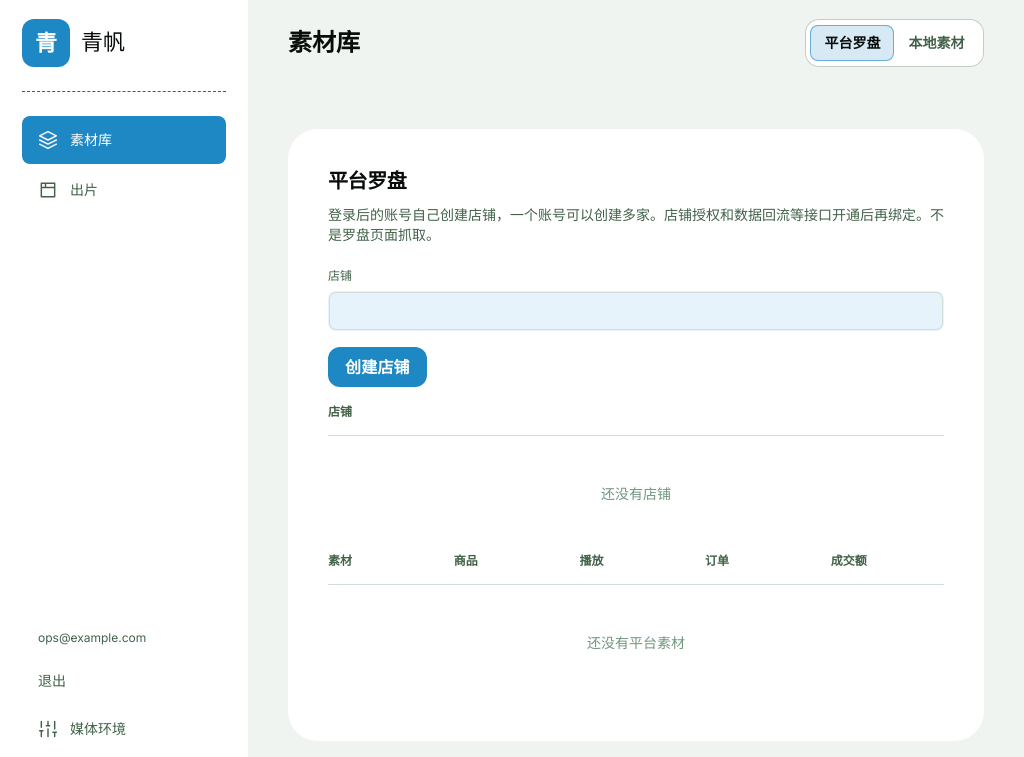
出片页可以手填发布并预览回流
What coordinates should you click on to do the following:
click the button "出片"
I would click on:
 (124, 190)
Its box is [22,168,226,212].
(page scrolled)
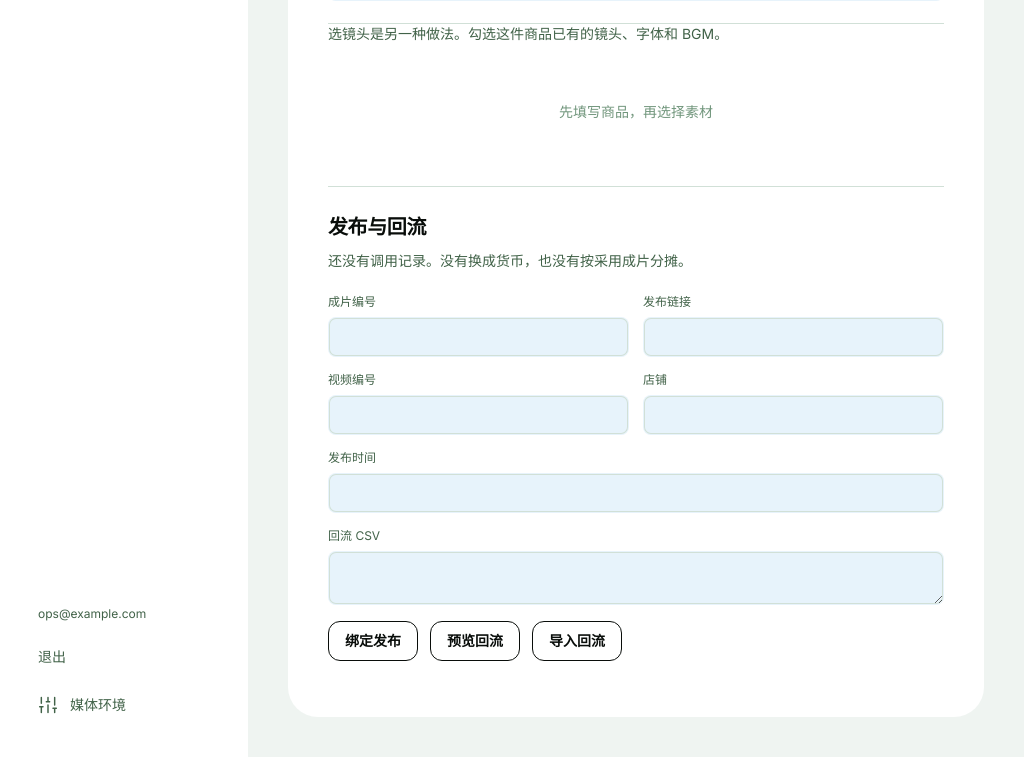
Now the element "发布与回流" is shown, box [328,186,944,661]
Now the text "还没有调用记录。没有换成货币，也没有按采用成片分摊。" is shown, box [328,252,692,269]
What coordinates should you click on to do the following:
click the button "绑定发布"
I would click on:
 (373, 641)
Its box is [328,621,418,661].
(page scrolled)
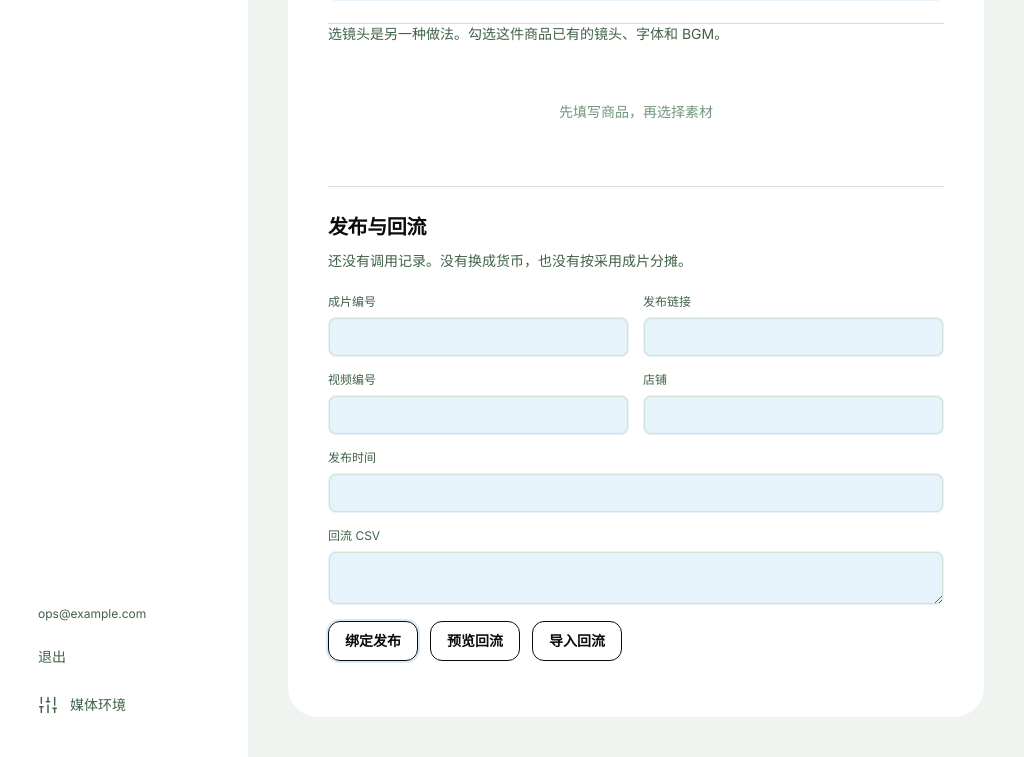
What coordinates should you click on to do the following:
click the button "预览回流"
I would click on:
 (475, 641)
Its box is [430,621,520,661].
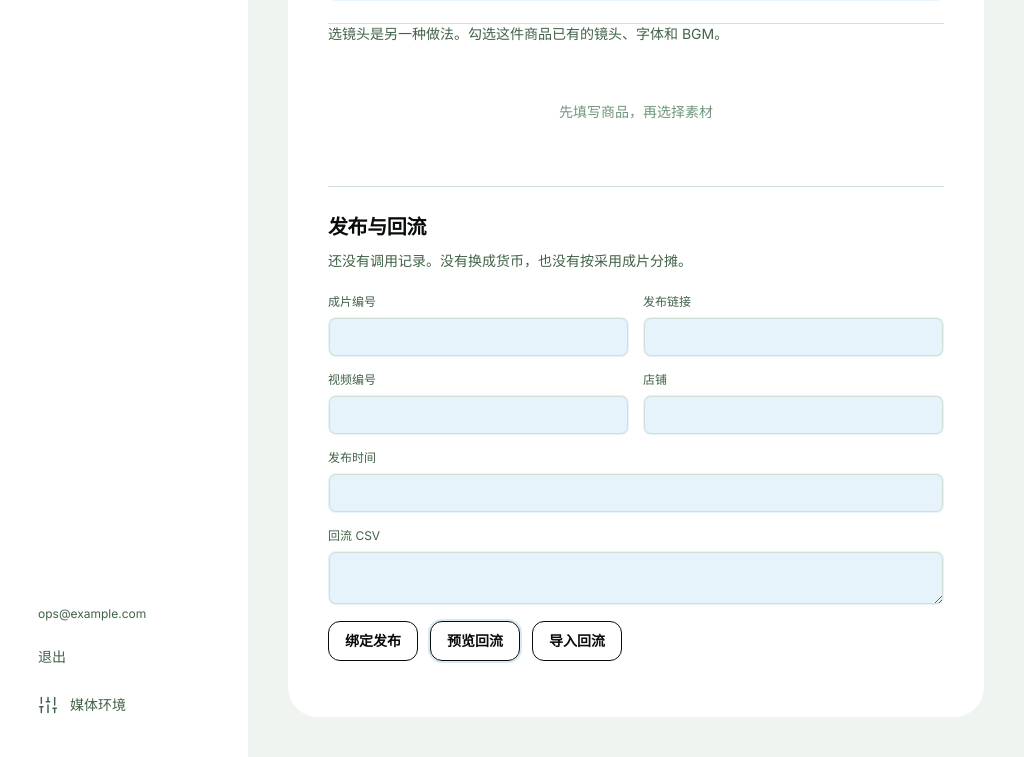
What coordinates should you click on to do the following:
click the button "导入回流"
I would click on:
 (577, 641)
Its box is [532,621,622,661].
(page scrolled)
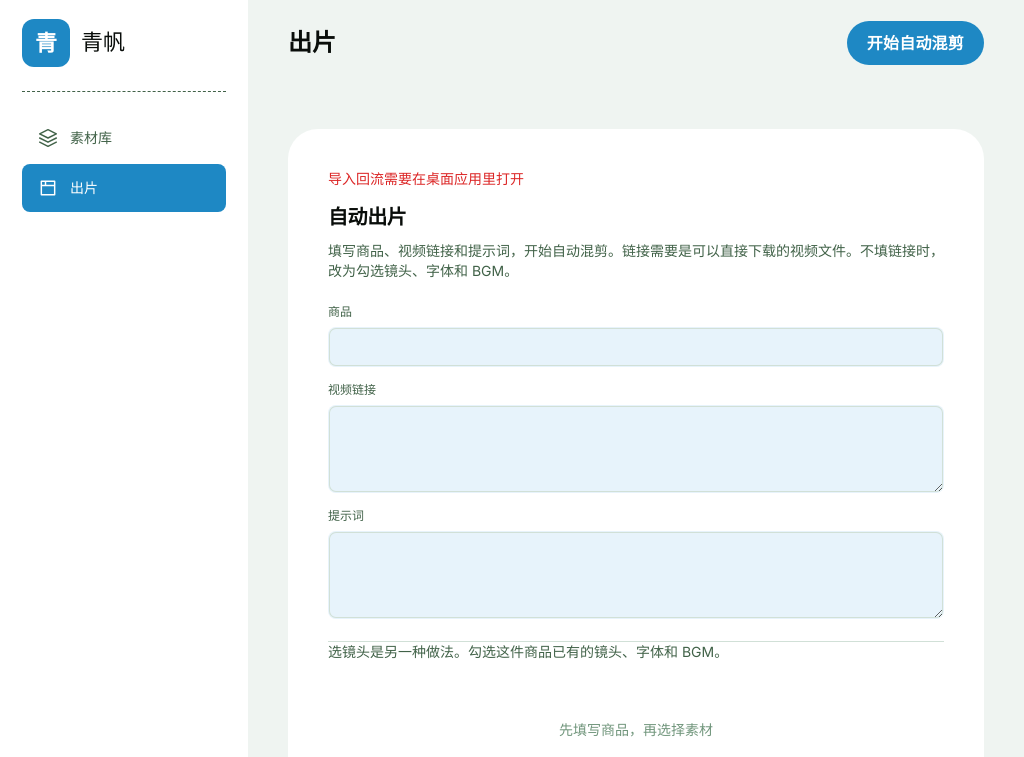
Now the message reads "导入回流需要在桌面应用里打开", box [328,170,524,187]
